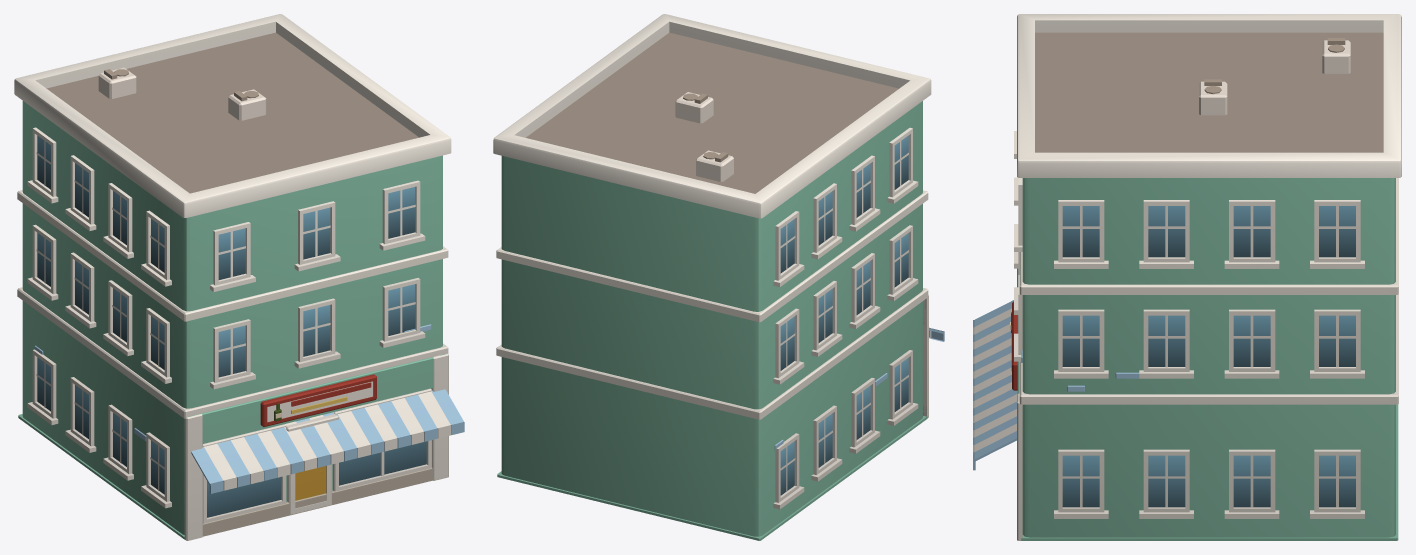
File: tremont_e1.glb
3 views of the same model, side by side, from view 1: azimuth 30°, elevation 25°; view 2: azimuth 150°, elevation 25°; view 3: azimuth 270°, elevation 25° (orthographic). The views are drawn at different scales.
Visible parts, largest first — view 1: tremont_e1; view 2: tremont_e1; view 3: tremont_e1.
Part boxes in pixels (<box>): tremont_e1: <box>14,14,464,540</box>; tremont_e1: <box>493,14,944,540</box>; tremont_e1: <box>973,14,1401,540</box>.
Size of the model in its own units: 9.98 by 12.19 by 12.05.
Materials: 1 (1 with a texture image).
